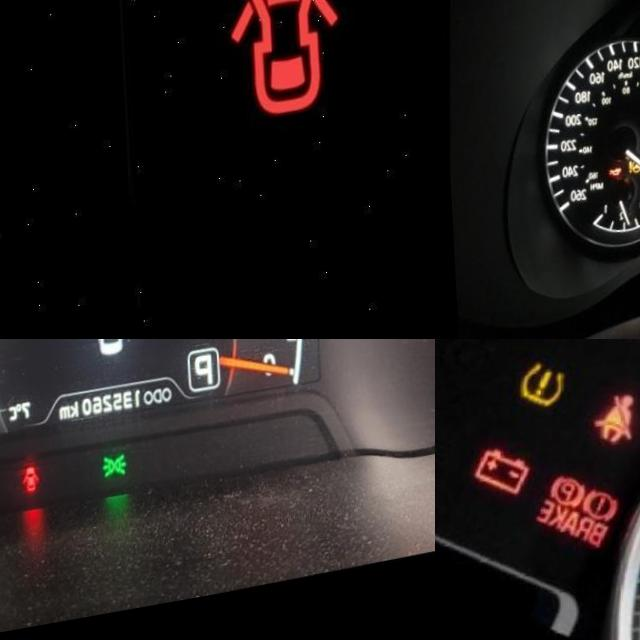Doors: (19, 470, 36, 499)
SideLamp: (98, 461, 122, 488)
